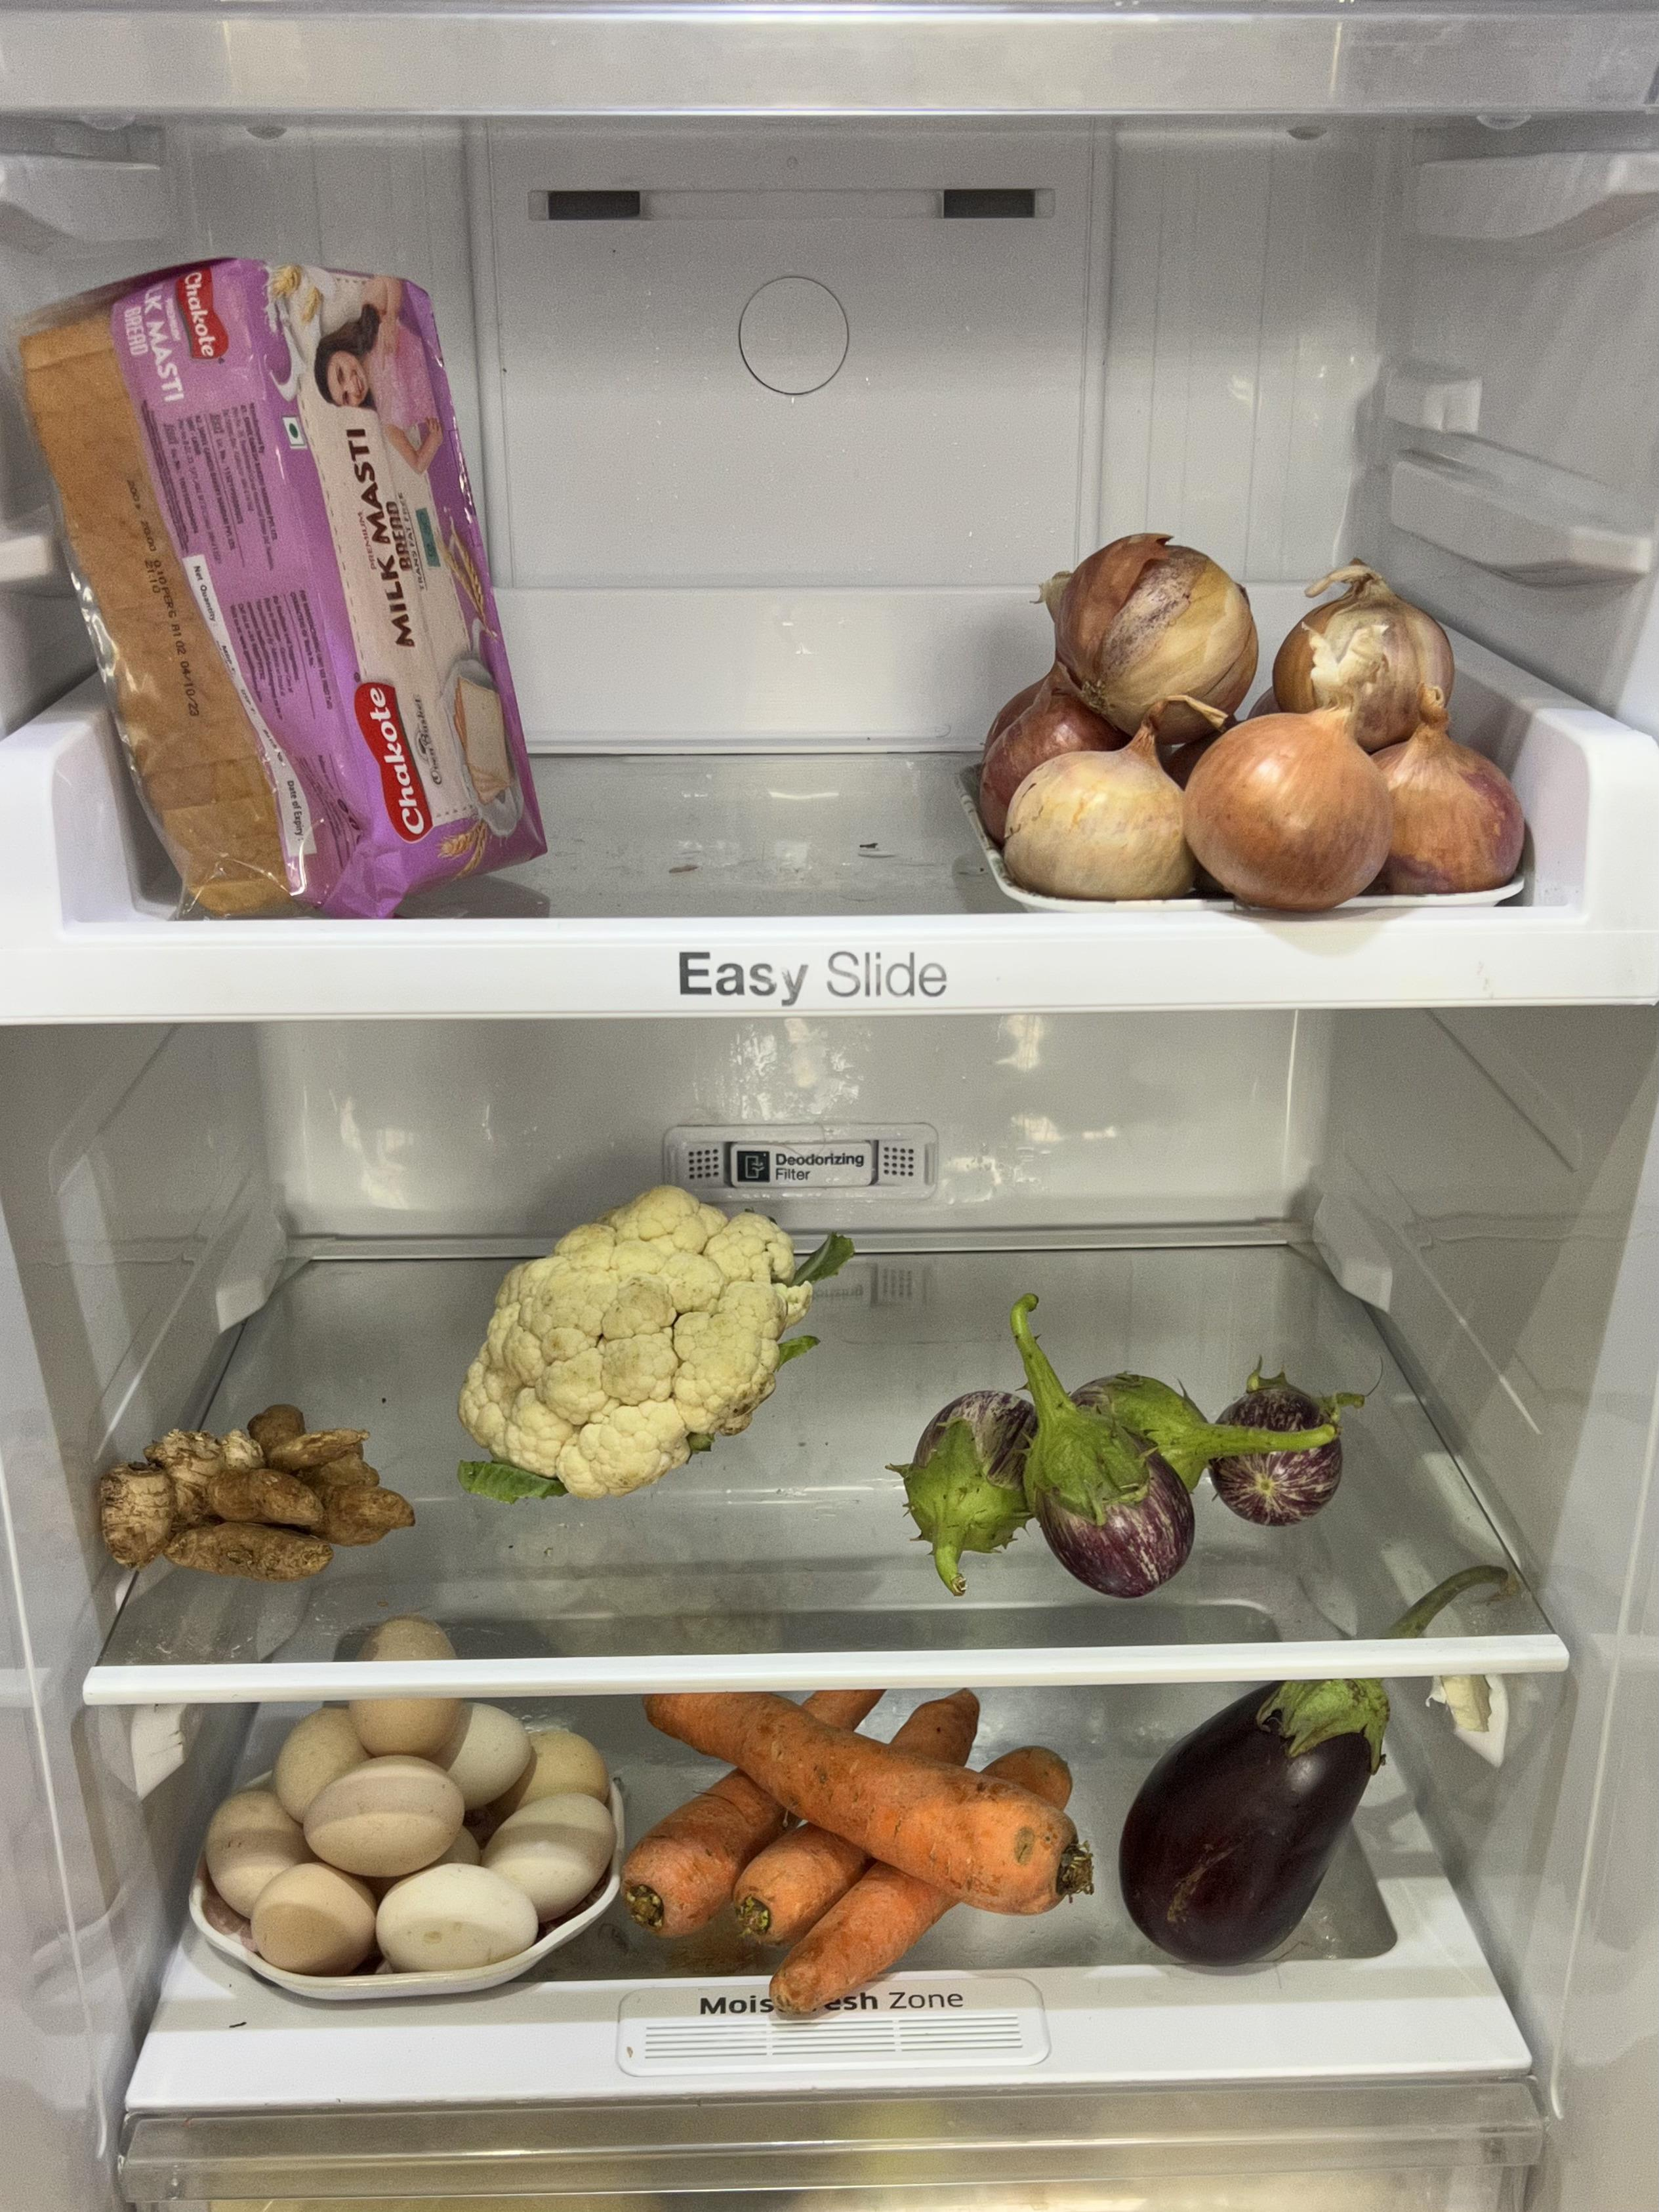bread: (19, 247, 545, 911)
bringal: (1119, 1656, 1441, 1991), (908, 1362, 1352, 1597)
carrots: (631, 1688, 1108, 2029)
cauliflower: (467, 1181, 829, 1487)
egg: (195, 1683, 608, 2006)
ginger: (103, 1397, 427, 1590)
onion: (969, 521, 1528, 907)
